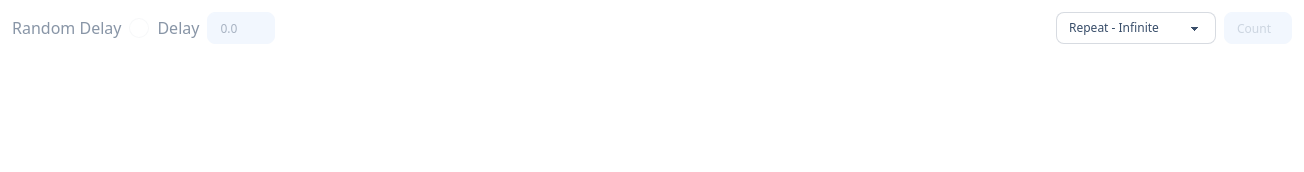
Test case: AstrosPlaylistSettings repeat editing › Count from Infinite sets a count of 1
Select "Repeat - Count" in the dropdown: point(1136, 28) [1056,12,1216,44]
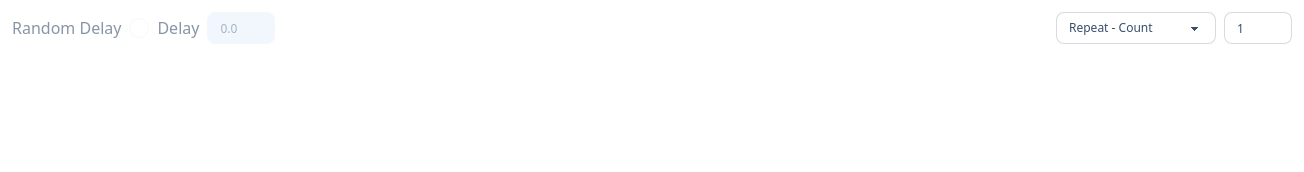
Check: the 2nd number field with placeholder "Count" holds "1", box [1224,12,1292,44]
